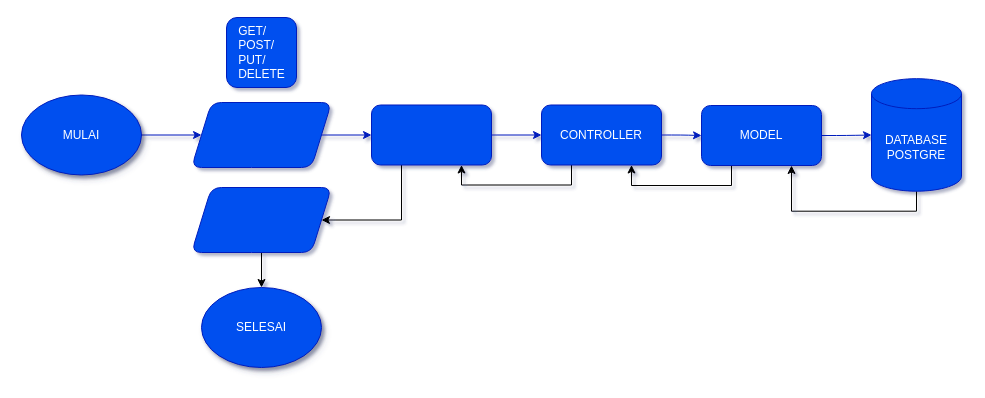
This 985x398 diagram has some shape labels left out. The centre of each missing label's shape, as x and y in pixels:
"INPUT REQUEST HTTP" goes at pixel 261 135.
"OUTPUT" goes at pixel 261 219.
"ROUTER" goes at pixel 431 134.
